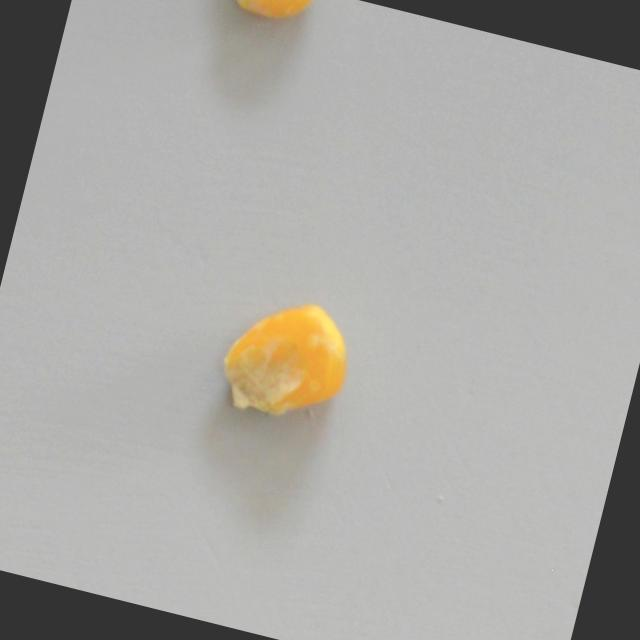dañado: (198, 279, 365, 441)
